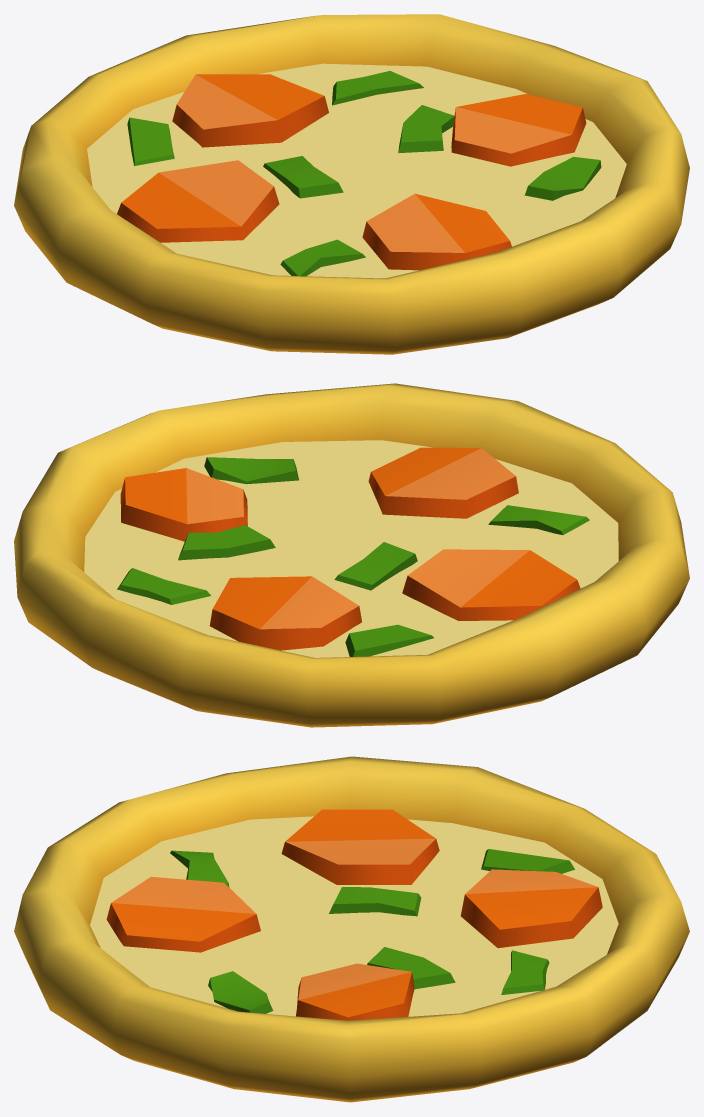
File: SmallPizza.fbx
The picture shows the model from 3 angles, top to bottom: view 1: azimuth 30°, elevation 25°; view 2: azimuth 150°, elevation 25°; view 3: azimuth 270°, elevation 25°; orthographic projection.
Parts seen in each view (by area): view 1: SmallPizza; view 2: SmallPizza; view 3: SmallPizza.
Part boxes in pixels (x1,y1,x2,y2): SmallPizza: [14, 14, 689, 354]; SmallPizza: [14, 383, 689, 727]; SmallPizza: [14, 756, 689, 1102].
Size of the model in its own units: 5.78 by 0.762 by 5.71.
